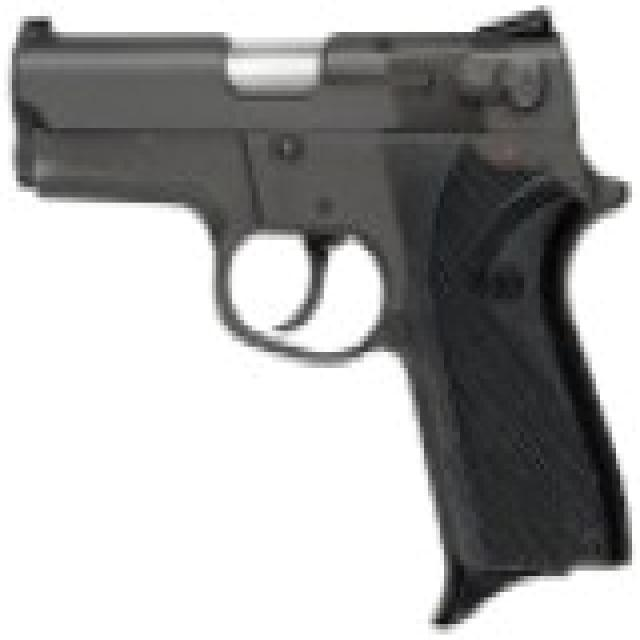pistol: (12, 5, 640, 608)
